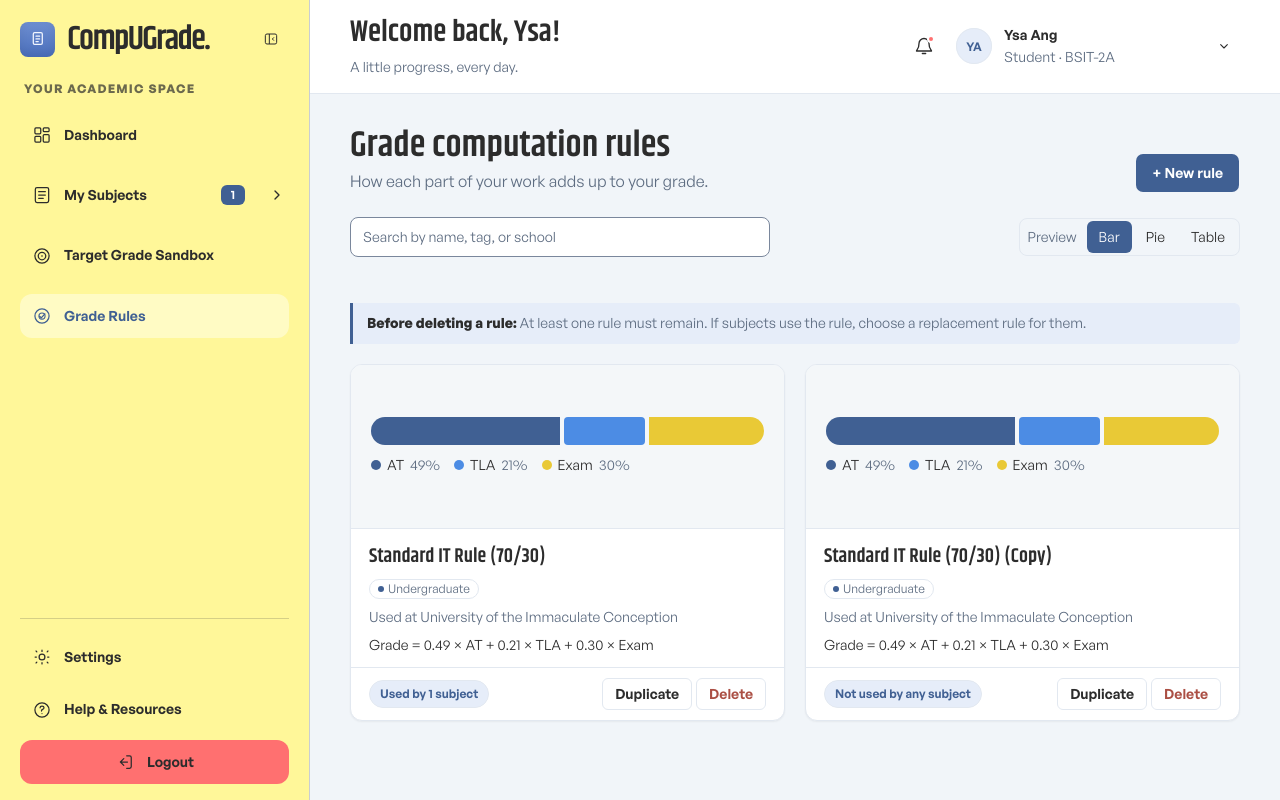
Test case: unreadable stored data › Delete saves nothing and says why in the dialog
Click the button "Delete" in the row of "Not used by any subject".
click(1186, 694)  # box [1151,678,1221,710]
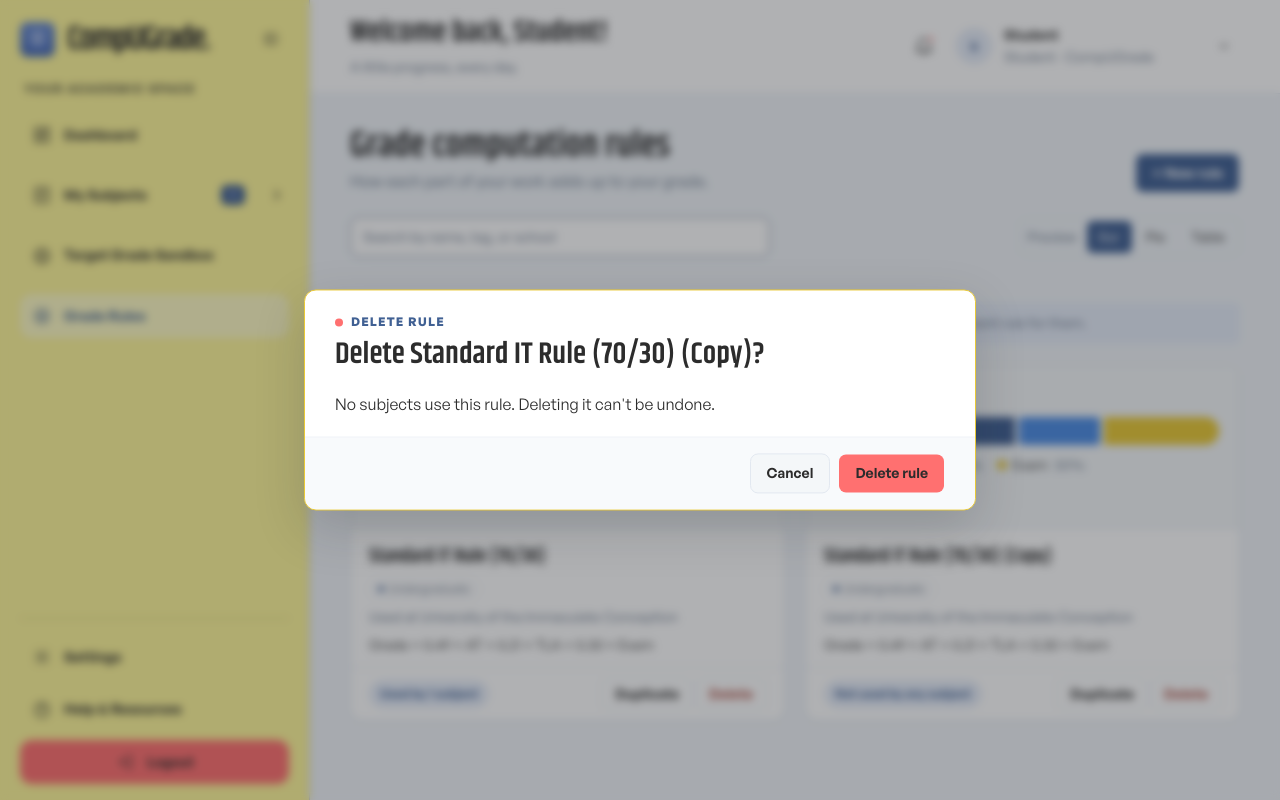
Click the button "Delete rule".
click(892, 474)  # box [838,454,945,494]
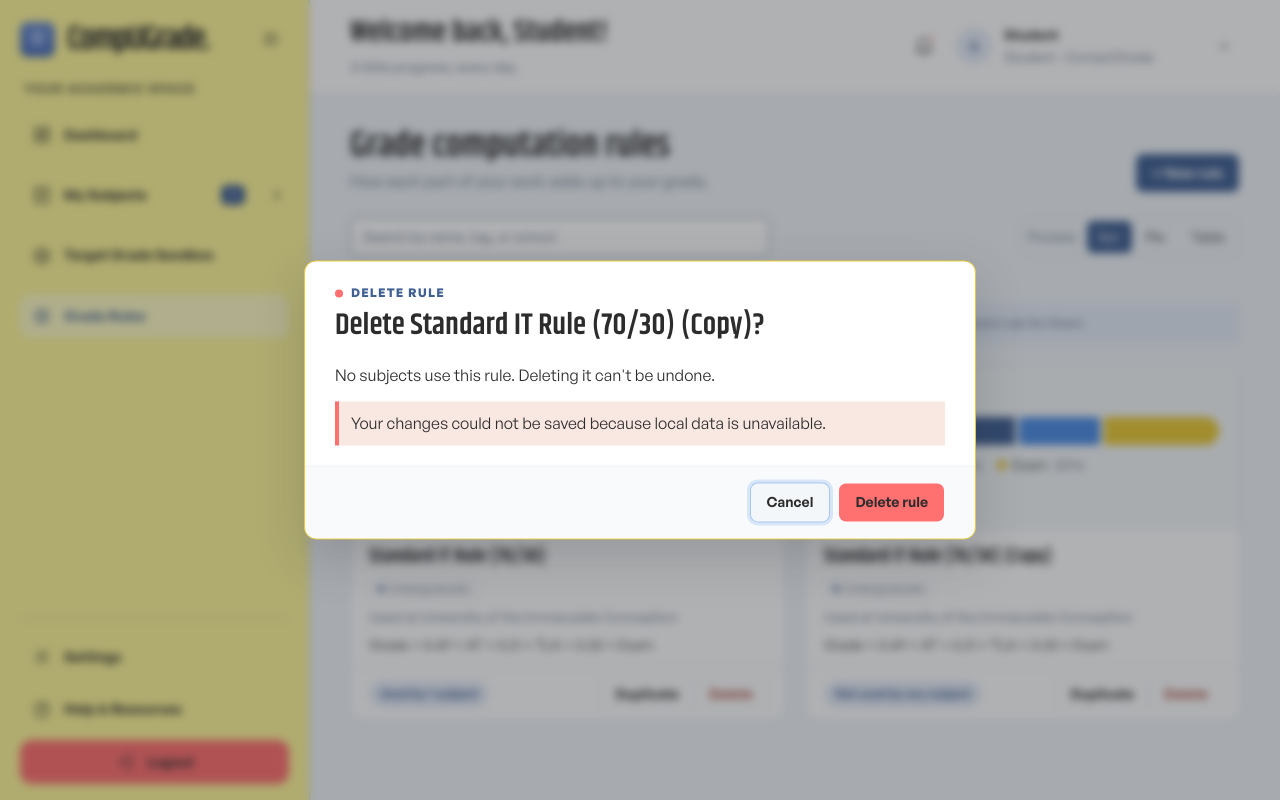
Expected: the message reads "Your changes could not be saved because local data is unavailable.", [351,414,826,434]
